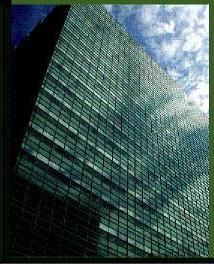building: (13, 4, 210, 256)
